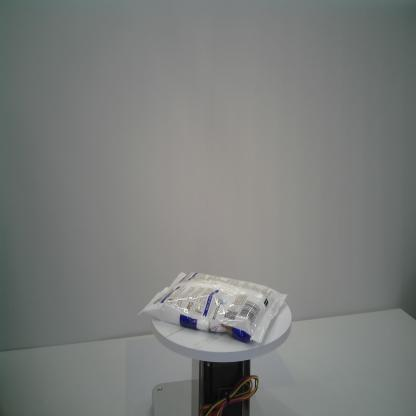Seasoner: (137, 270, 289, 344)
